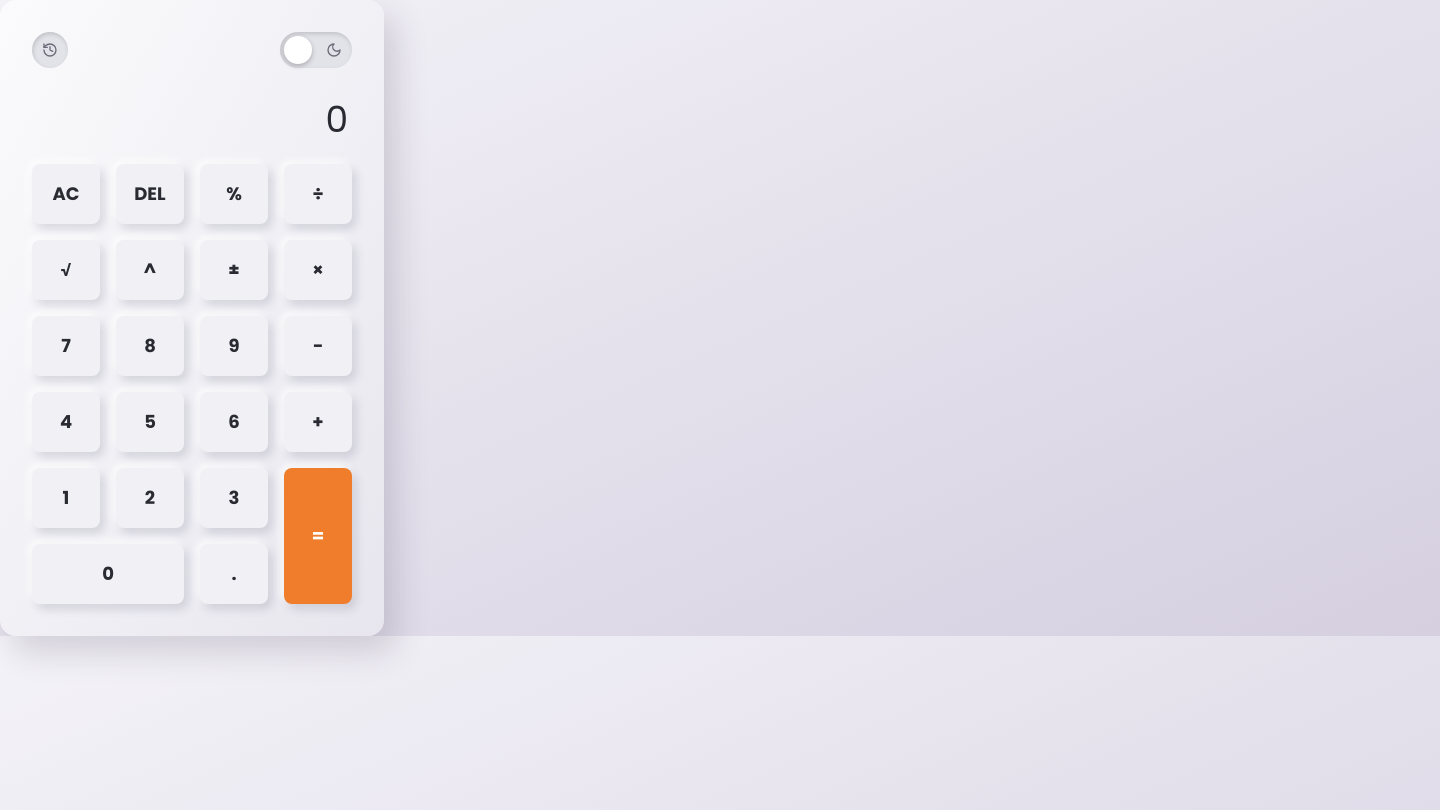
it: Calculator › applies square root to the displayed number straight away
The image size is (1440, 810).
Click the button "9". click: (234, 346)
box: [200,316,268,376]
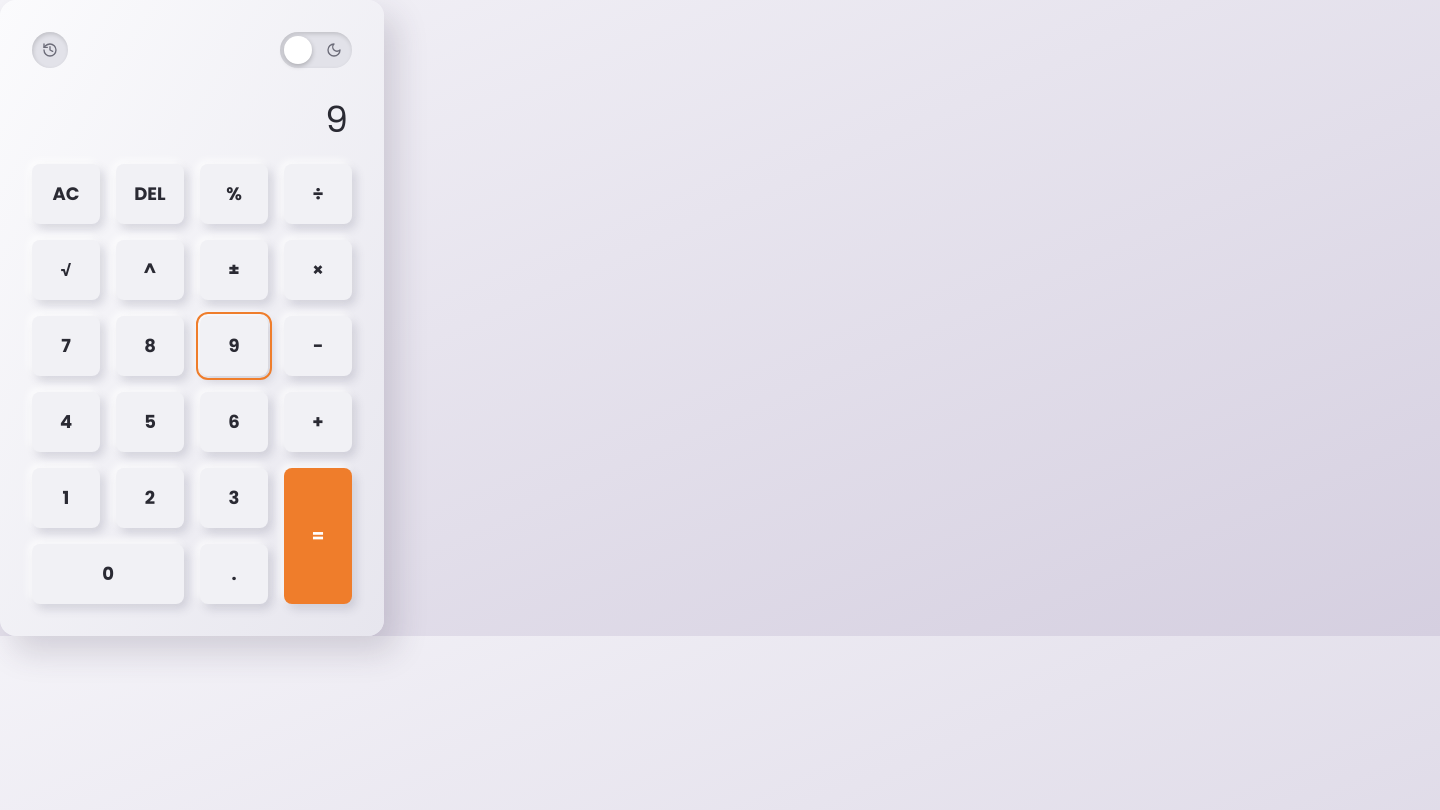
Click the button named "Add". click: (318, 422)
box: [284,392,352,452]
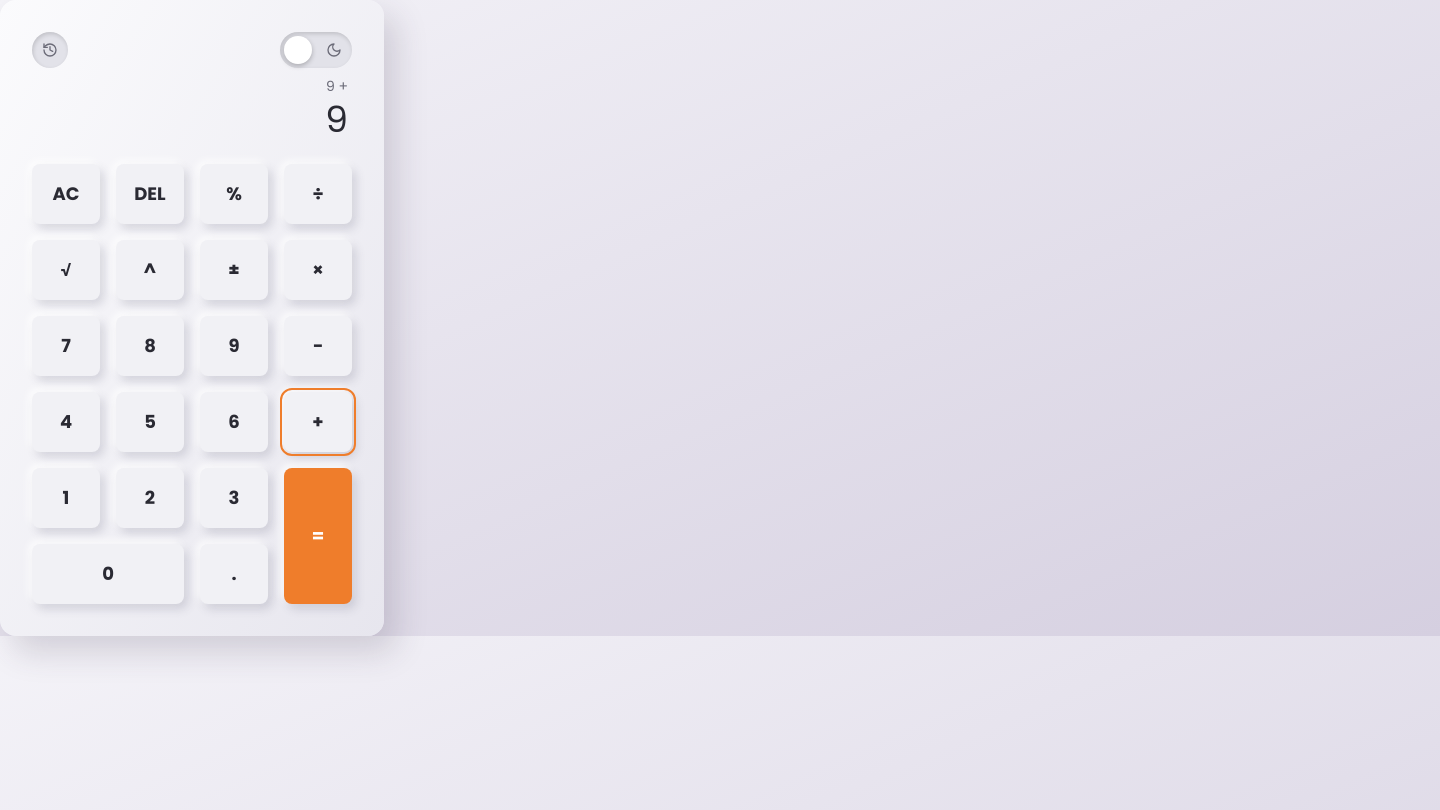
Click the button "1". click: (66, 498)
box: [32,468,100,528]
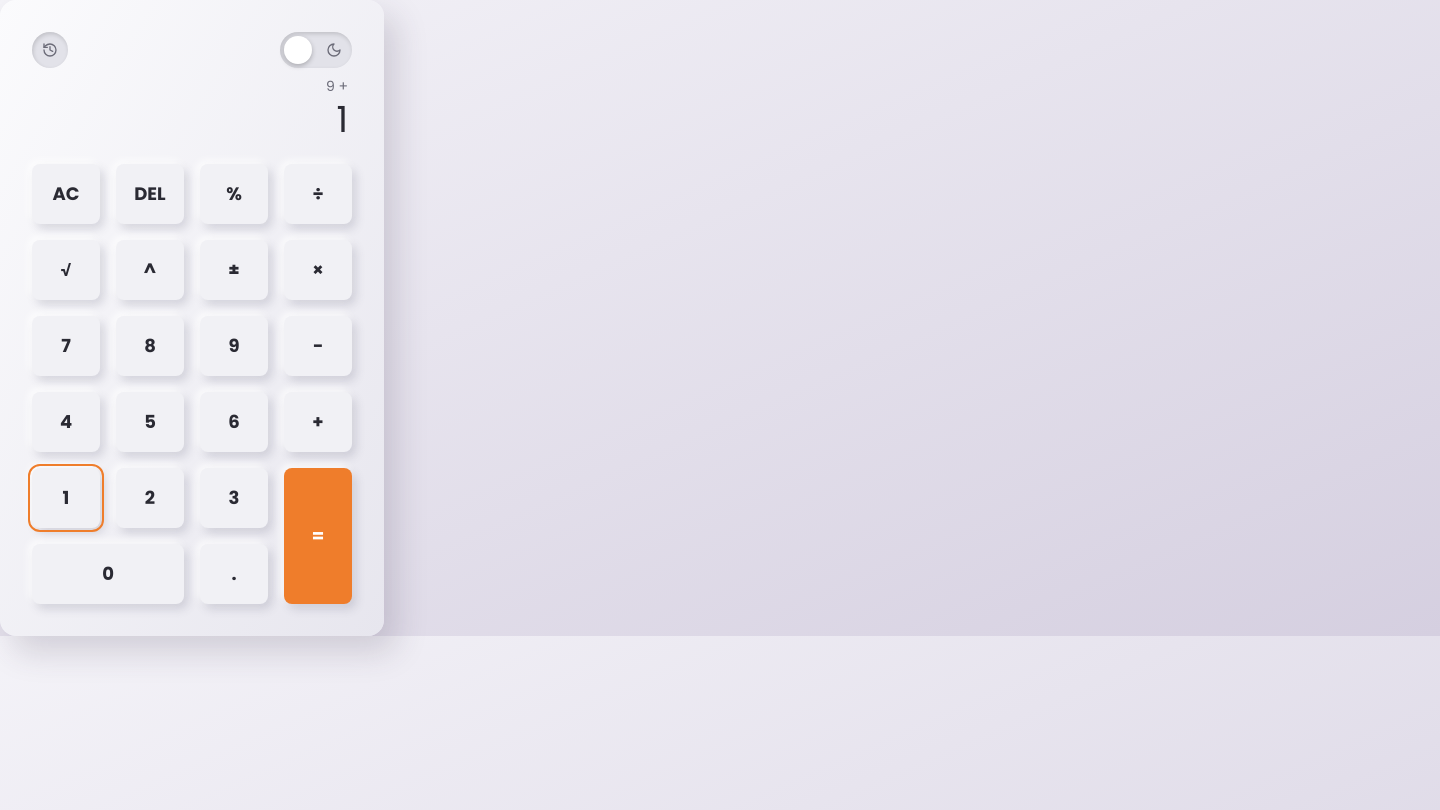
Click the button "6". click: (234, 422)
box: [200,392,268,452]
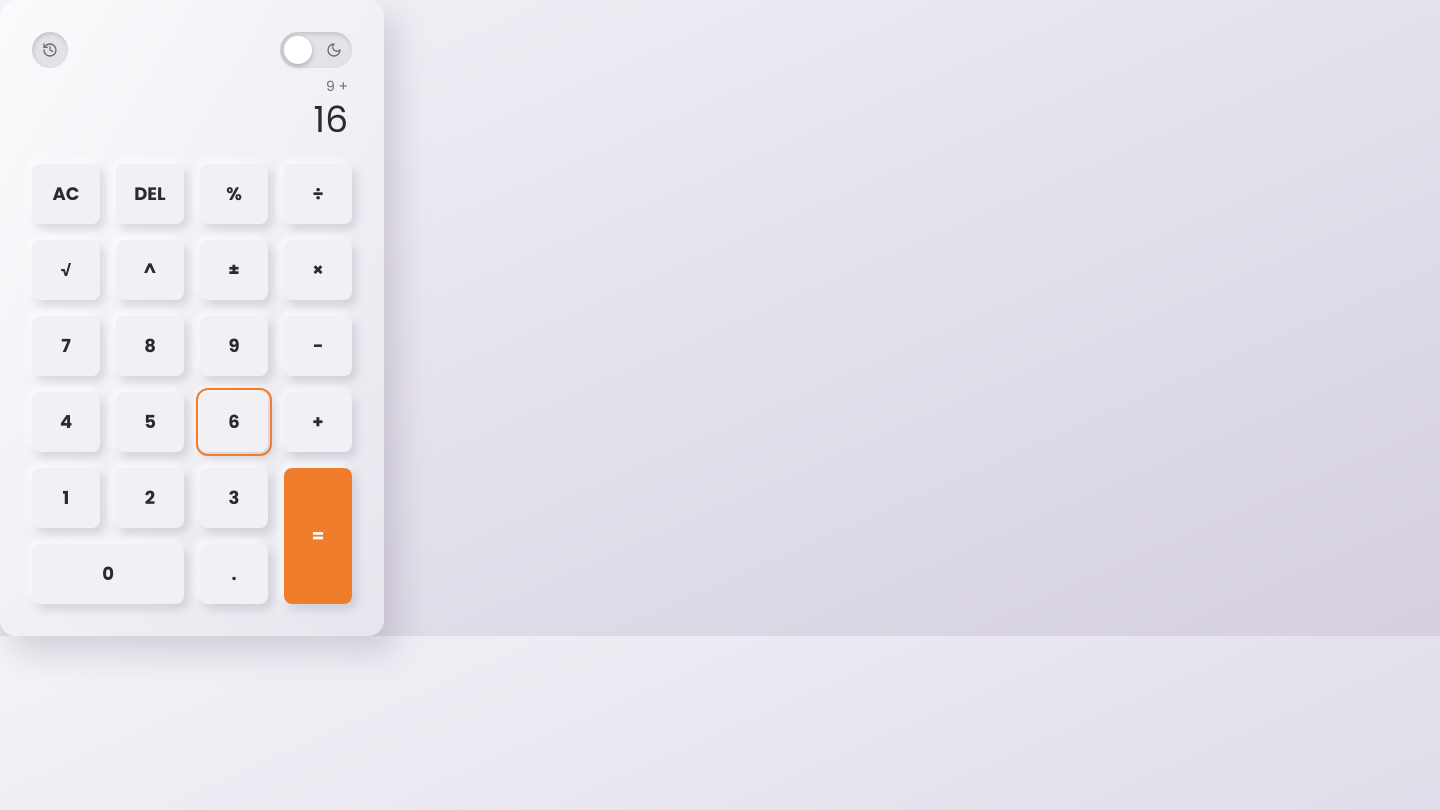
Click the button named "Square root". click: (66, 270)
box: [32,240,100,300]
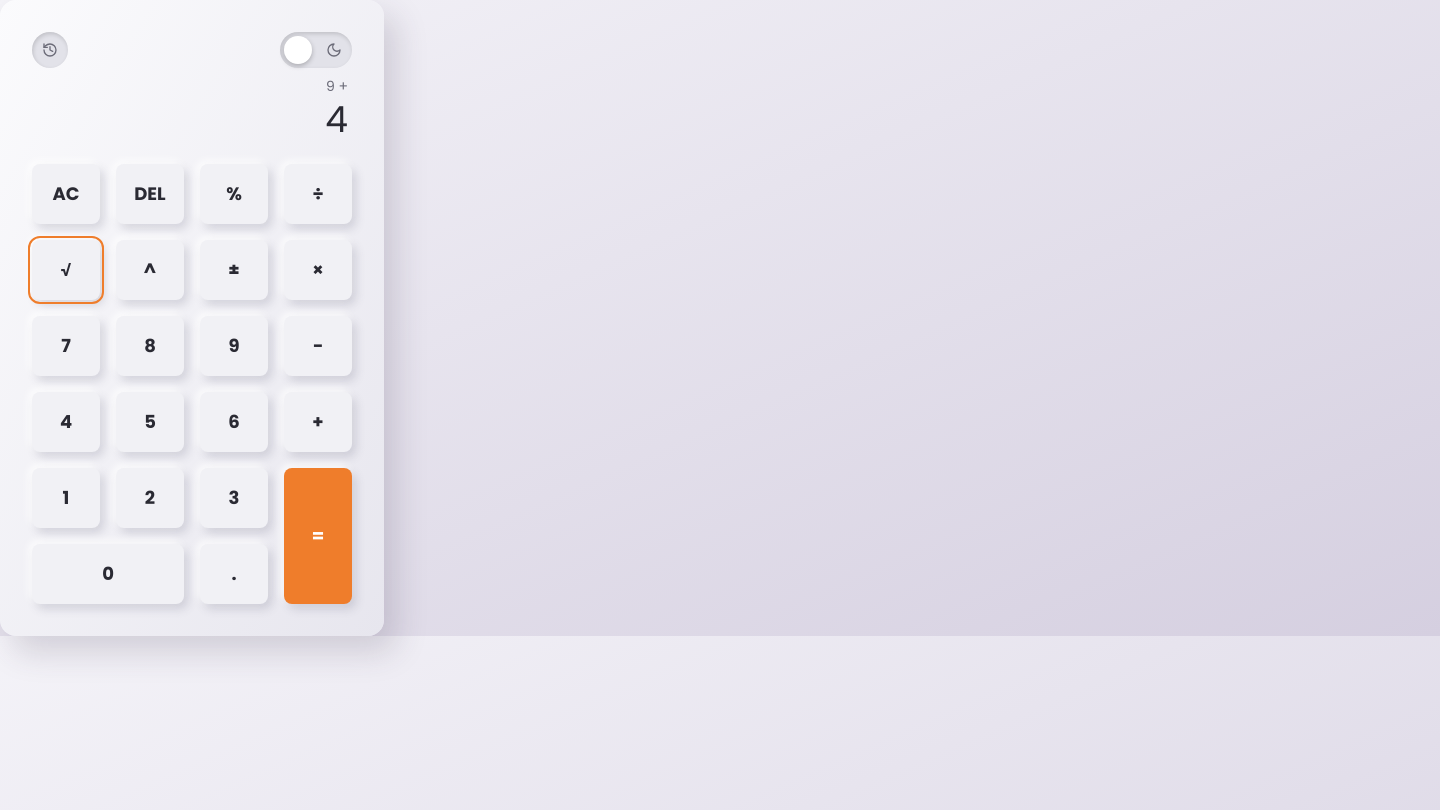
Now the element named "Result" shows "9 +", box [326,76,348,96]
Now the text "4" is shown, box [325,100,348,140]
Click the button named "Equals". click: (318, 536)
box: [284,468,352,604]
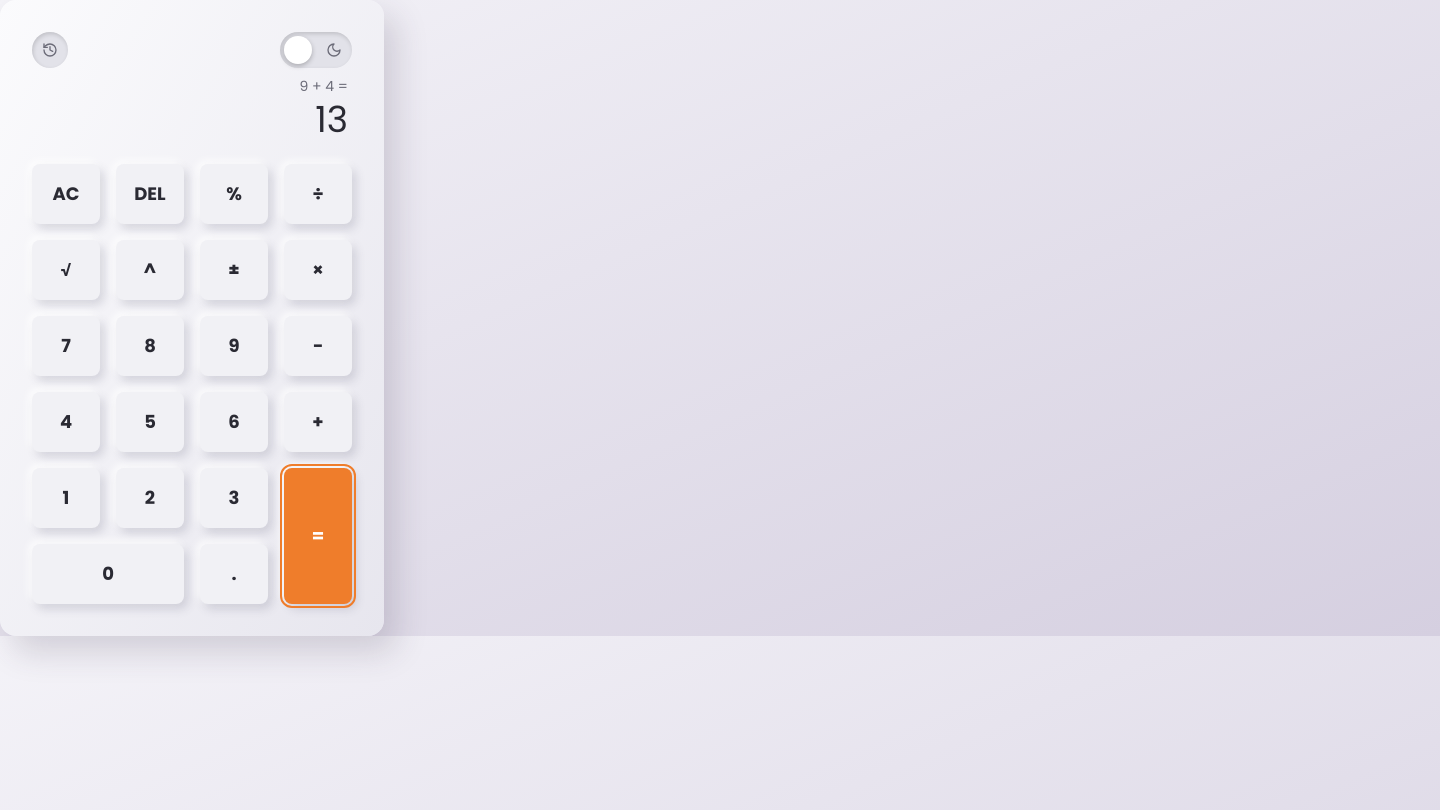
Now the text "13" is shown, box [315,100,348,140]
